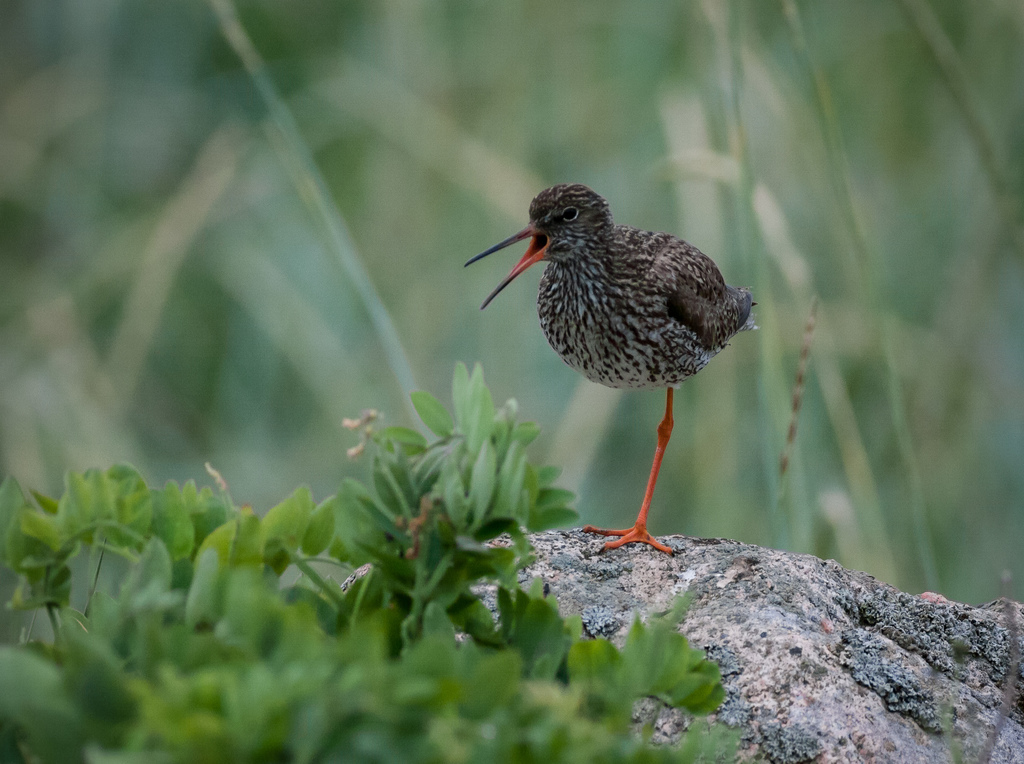Bird: (463, 184, 760, 558)
